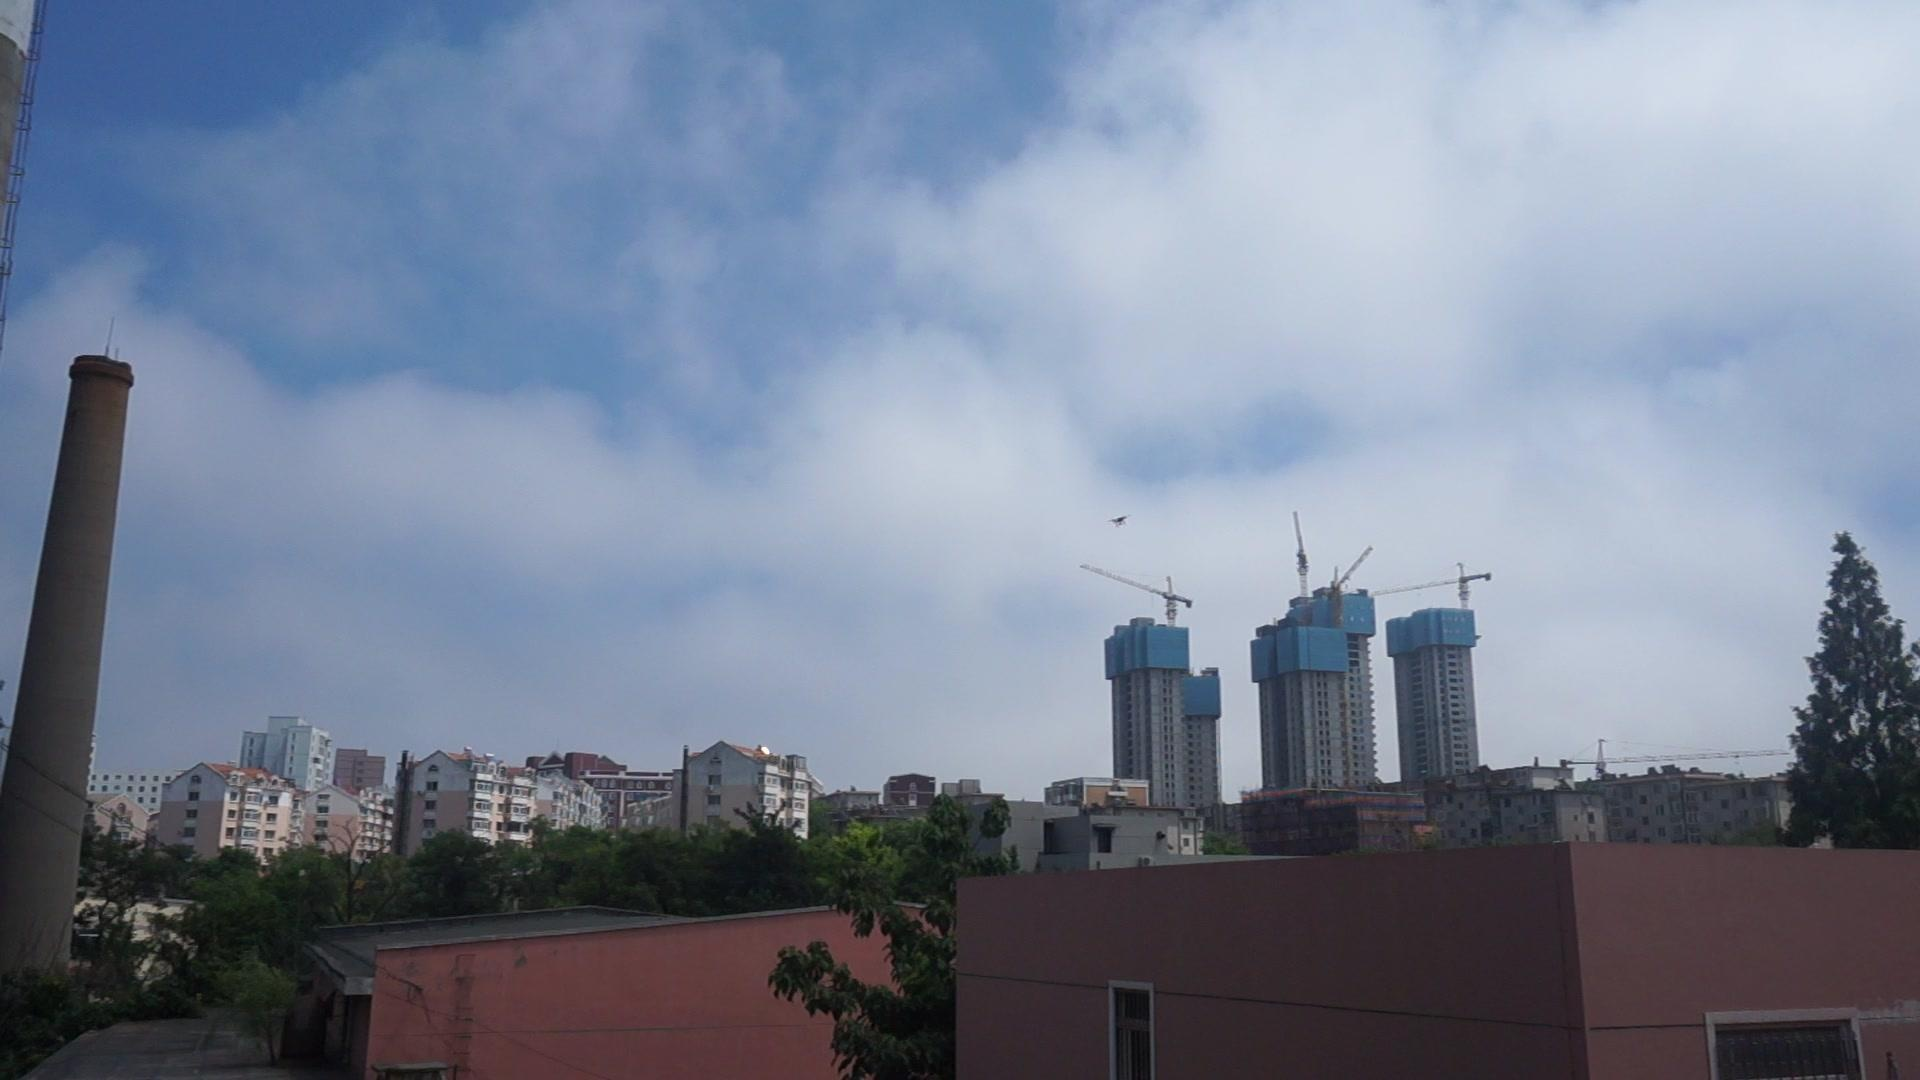UAV: (1106, 516, 1134, 529)
